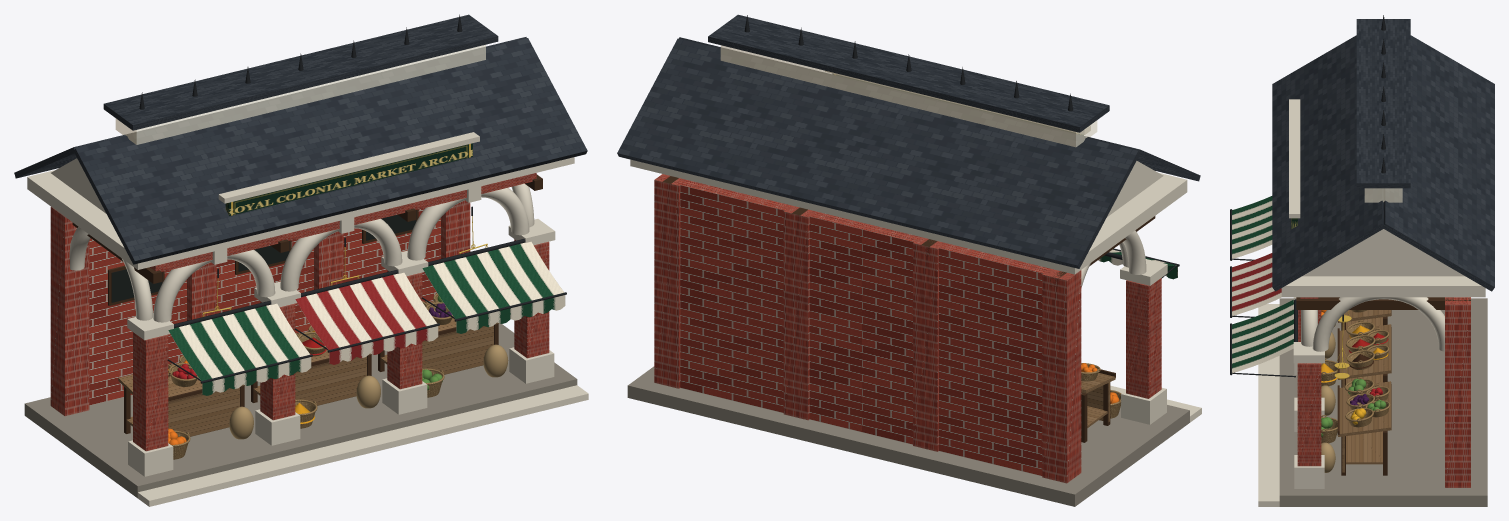
Rendered from colonial_market_arcade.glb.
The picture shows the model from 3 angles, left to right: view 1: azimuth 30°, elevation 25°; view 2: azimuth 150°, elevation 25°; view 3: azimuth 270°, elevation 25°; orthographic projection. The views are drawn at different scales.
Visible parts, largest first — view 1: Pitched_Slate_Roof_And_Clerestory, Arched_Colonnade_Structure, British_Colonial_Covered_Market_Arcade, Wooden_Counters_And_Produce_Baskets, Striped_Canvas_Awning_2, Striped_Canvas_Awning_1, Striped_Canvas_Awning_3; view 2: Arched_Colonnade_Structure, Pitched_Slate_Roof_And_Clerestory, British_Colonial_Covered_Market_Arcade, Wooden_Counters_And_Produce_Baskets; view 3: Pitched_Slate_Roof_And_Clerestory, British_Colonial_Covered_Market_Arcade, Arched_Colonnade_Structure, Wooden_Counters_And_Produce_Baskets, Woven_Produce_Basket (×9), Striped_Canvas_Awning_3, Striped_Canvas_Awning_2, Striped_Canvas_Awning_1.
Boxes of the visible parts, box(x1,y1,x2,y2) form: Pitched_Slate_Roof_And_Clerestory: box(14, 14, 587, 264); Arched_Colonnade_Structure: box(27, 132, 574, 476); British_Colonial_Covered_Market_Arcade: box(24, 206, 588, 506); Wooden_Counters_And_Produce_Baskets: box(118, 301, 508, 439); Striped_Canvas_Awning_2: box(294, 272, 439, 364); Striped_Canvas_Awning_1: box(167, 303, 312, 395); Striped_Canvas_Awning_3: box(421, 241, 566, 333); Arched_Colonnade_Structure: box(630, 71, 1187, 483); Pitched_Slate_Roof_And_Clerestory: box(617, 14, 1200, 268); British_Colonial_Covered_Market_Arcade: box(627, 252, 1201, 506); Wooden_Counters_And_Produce_Baskets: box(1081, 369, 1115, 442); Pitched_Slate_Roof_And_Clerestory: box(1272, 15, 1494, 291); British_Colonial_Covered_Market_Arcade: box(1258, 298, 1487, 506); Arched_Colonnade_Structure: box(1281, 99, 1485, 488); Wooden_Counters_And_Produce_Baskets: box(1321, 310, 1391, 475); Woven_Produce_Basket (×9): box(1321, 320, 1390, 443); Striped_Canvas_Awning_3: box(1230, 300, 1295, 377); Striped_Canvas_Awning_2: box(1230, 253, 1281, 317); Striped_Canvas_Awning_1: box(1230, 196, 1272, 260).
Bounding box in the file's own units: 8.55 × 6.33 × 4.71.
27 materials, 7 textured.
